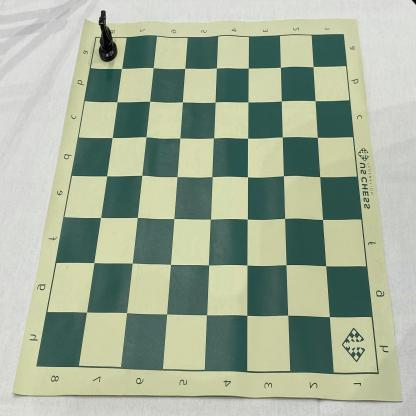black-knight: (98, 10, 119, 63)
